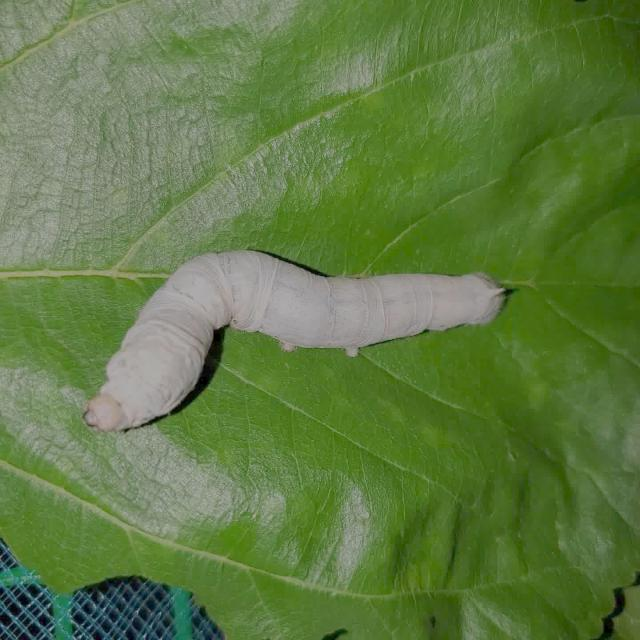Healthy: (77, 238, 509, 436)
